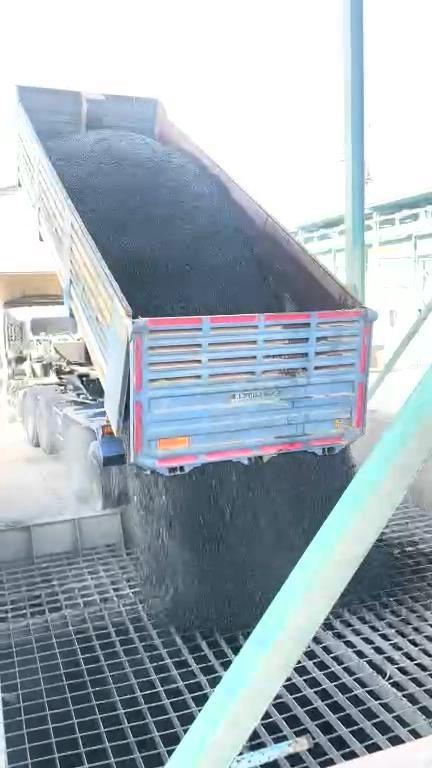gravel: (49, 130, 282, 316), (132, 450, 354, 631), (342, 547, 393, 603)
